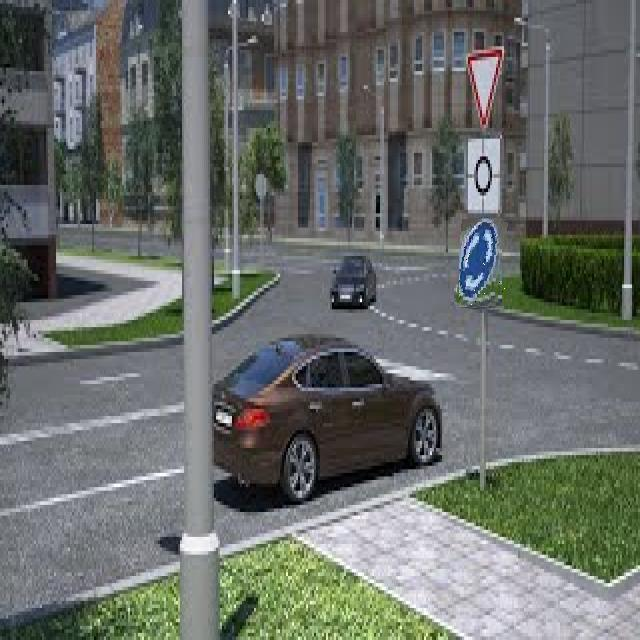roundabout: (459, 218, 505, 309)
